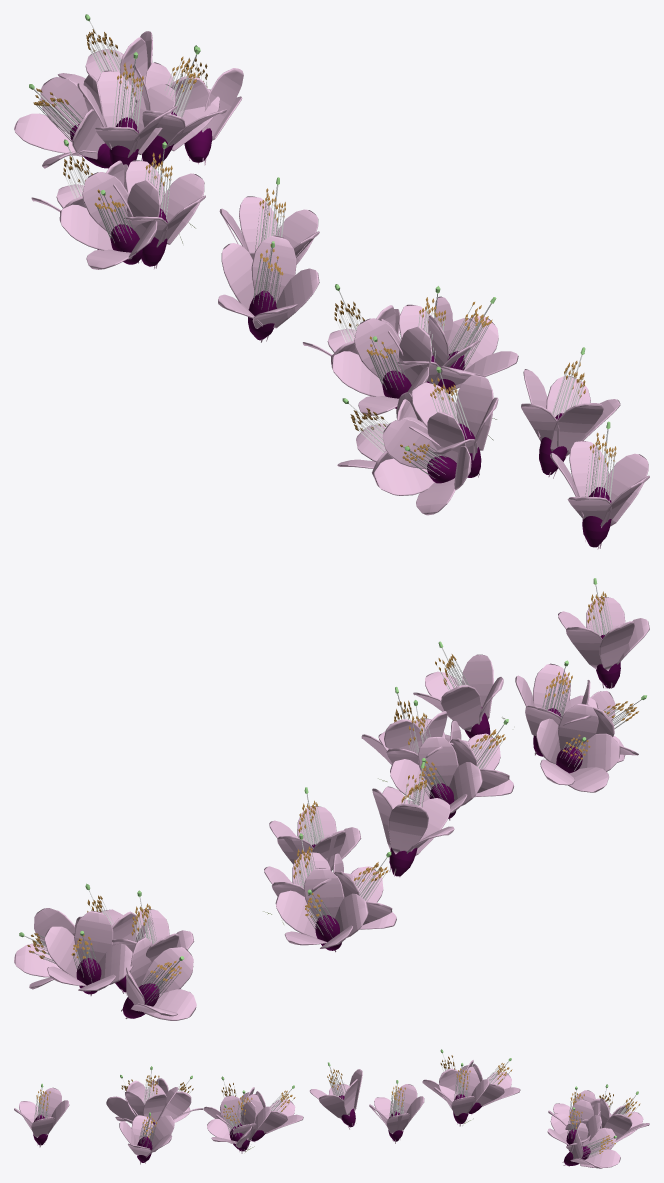
The model's file is cherry flowers new.fbx.
The picture shows the model from 3 angles, top to bottom: view 1: azimuth 30°, elevation 25°; view 2: azimuth 150°, elevation 25°; view 3: azimuth 270°, elevation 25°; orthographic projection. The views are drawn at different scales.
Visible parts, largest first — view 1: polySurface419, pSphere50, pSphere49, pSphere47, one_flower:pSphere33, pSphere48, pSphere52, pSphere43, pSphere33; view 2: polySurface419, pSphere50, pSphere49, pSphere47, one_flower:pSphere33, pSphere48, pSphere52, pSphere33, pSphere43; view 3: polySurface419, pSphere49, pSphere50, pSphere47, pSphere52, pSphere43, pSphere48, pSphere33, one_flower:pSphere33, pSphere51.
Part boxes in pixels (x1,y1,x2,y2): polySurface419: (14,14,243,168); pSphere50: (337,366,498,515); pSphere49: (31,139,205,269); pSphere47: (302,284,479,415); one_flower:pSphere33: (218,235,319,342); pSphere48: (550,421,649,549); pSphere52: (521,347,620,478); pSphere43: (428,296,518,393); pSphere33: (219,177,319,264); polySurface419: (14,883,196,1020); pSphere50: (502,660,646,792); pSphere49: (263,833,396,952); pSphere47: (378,700,513,820); one_flower:pSphere33: (372,761,454,877); pSphere48: (558,578,649,688); pSphere52: (413,641,503,738); pSphere33: (269,787,361,870); pSphere43: (361,687,450,764); polySurface419: (547,1084,649,1168); pSphere49: (422,1049,520,1126); pSphere50: (106,1066,202,1124); pSphere47: (203,1076,303,1153); pSphere52: (119,1112,174,1164); pSphere43: (207,1095,256,1151); pSphere48: (14,1083,69,1147); pSphere33: (369,1080,424,1143); one_flower:pSphere33: (309,1062,362,1129); pSphere51: (369,1081,404,1130).
Bounding box in the file's own units: 10.69 × 4.86 × 36.11.
